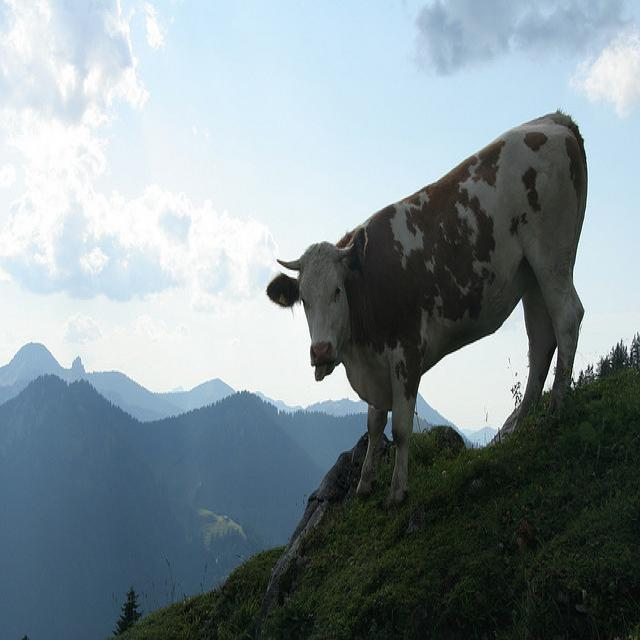cow: (264, 105, 586, 504)
